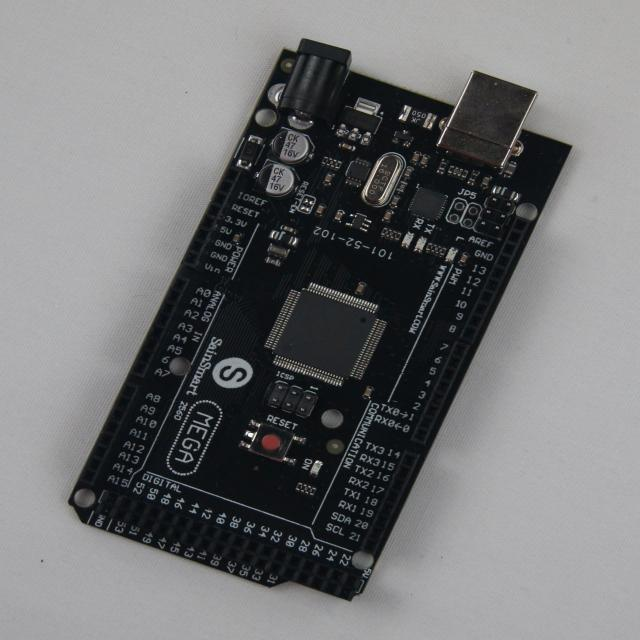Arduino Mega 2560 -Black-: (70, 41, 569, 600)
